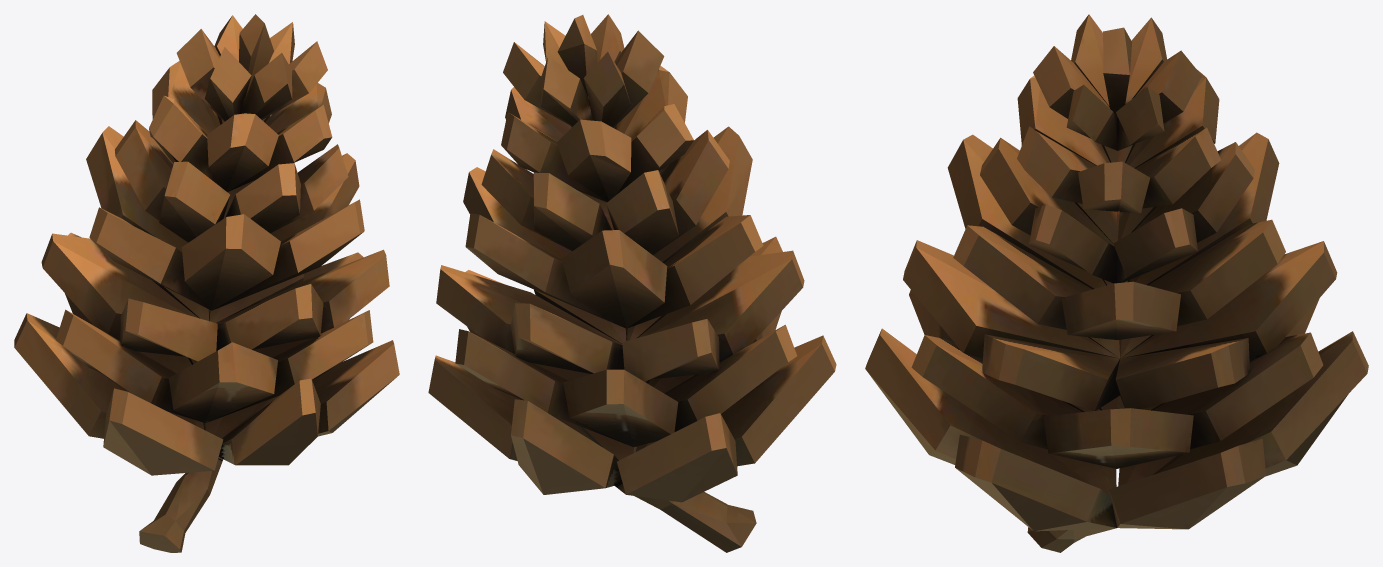
The model's file is pinecone-google_9afIin1wLCy.glb.
The picture shows the model from 3 angles, left to right: view 1: azimuth 30°, elevation 25°; view 2: azimuth 150°, elevation 25°; view 3: azimuth 270°, elevation 25°; orthographic projection. The views are drawn at different scales.
Visible parts, largest first — view 1: Pinecone; view 2: Pinecone; view 3: Pinecone.
Part boxes in pixels (x1,y1,x2,y2): Pinecone: (14,14,399,552); Pinecone: (428,14,836,552); Pinecone: (865,14,1368,552).
Size of the model in its own units: 1.18 by 1.79 by 1.38.
1 material, 1 textured.
